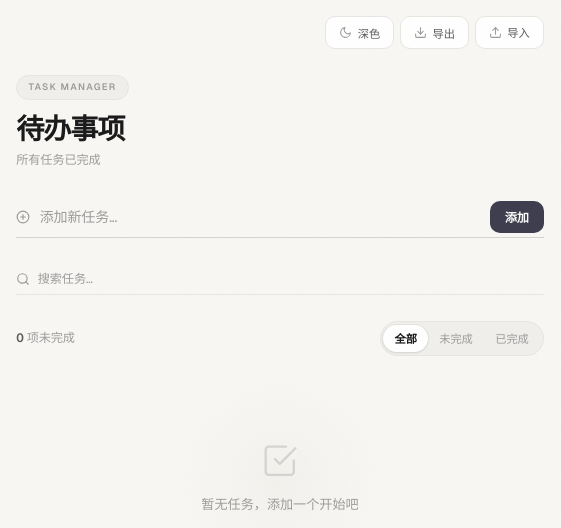
TodoApp › should add a todo via input
The image size is (561, 528).
Type "买菜" into the field with placeholder "添加新任务...".
click(260, 217); type("买菜")  # box [40,197,480,237]
Then press Enter
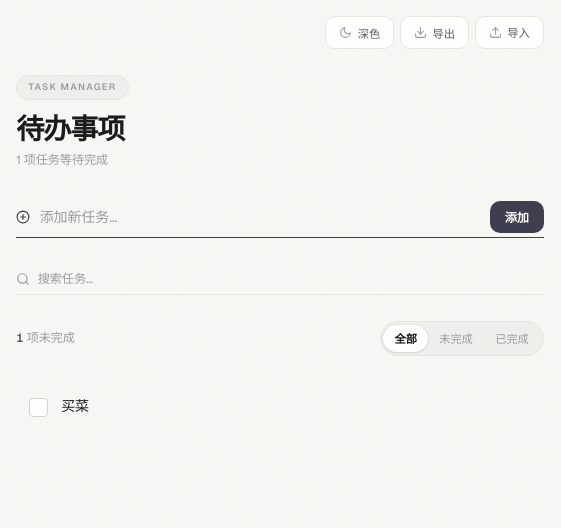
Expected: the text "买菜" is shown, [61,397,89,415]
Expected: the text "暂无任务，添加一个开始吧" is gone
